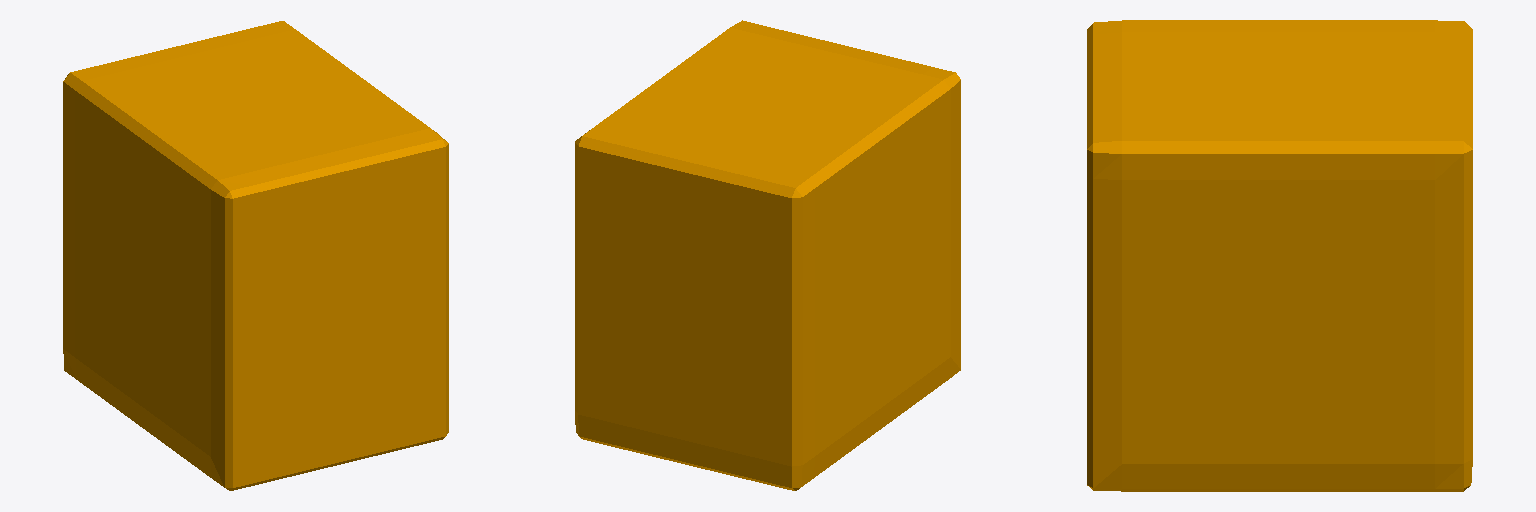
URDF robot description (cylinder_box_15):
<?xml version="1.0" encoding="utf-8"?>  <robot name="cylinder_box_15">   <link name="cylinder_box_15">     <visual>       <geometry>         <mesh filename="../meshes/box/box_15.stl" scale="1 1 1"/>       </geometry>     </visual>     <collision>       <geometry>         <mesh filename="../meshes/box/box_15.stl" scale="1 1 1"/>       </geometry>     </collision>     <inertial>        <origin         xyz="0 0 0"         rpy="0 0 0" />       <mass value="0.24572240543759466"/>       <origin rpy="0 0 0" xyz="0 0 0"/>       <inertia ixx="0.00018721959536315285" ixy="5.038444505820705e-09" ixz="-6.130630245222665e-09" iyy="0.0001524544090979618" iyz="-9.52358535894807e-08" izz="0.00015186571002279153"/>     </inertial>   </link>  </robot>

--- Facts derived from the render (not from the file) ---
Views: 3 orthographic renders of the robot side by side, from view 1: azimuth 30°, elevation 25°; view 2: azimuth 150°, elevation 25°; view 3: azimuth 270°, elevation 25°.
Model cylinder_box_15 with 1 links and 0 joints (none), rooted at cylinder_box_15, posed all joints at 0.
Visible links, largest first — view 1: cylinder_box_15; view 2: cylinder_box_15; view 3: cylinder_box_15.
Boxes of the visible links, bbox=[...] form: cylinder_box_15: bbox=[63, 21, 448, 490]; cylinder_box_15: bbox=[575, 20, 960, 490]; cylinder_box_15: bbox=[1087, 20, 1472, 491].
Bounding box of the posed robot: 0.0537 × 0.0677 × 0.068 m (x, y, z).
Meshes: 1 distinct files referenced, 1 mesh visuals loaded (1 binary STL).